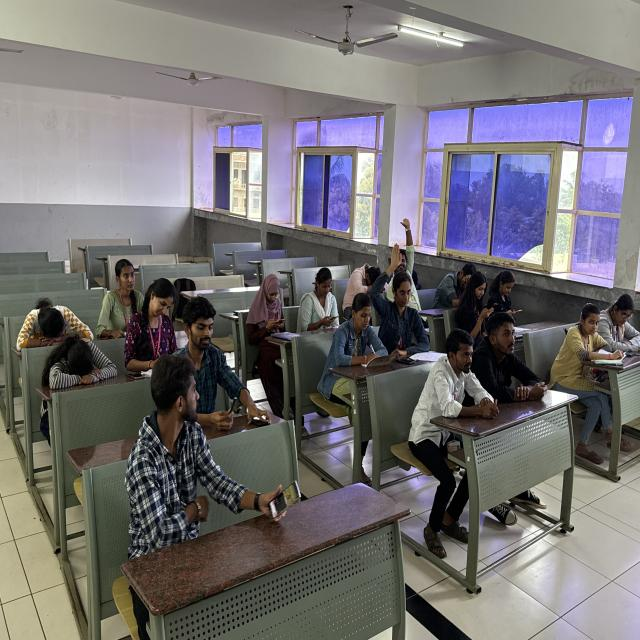Hand Rising: (380, 240, 433, 360), (390, 212, 424, 290)
Reading: (600, 291, 640, 355)
Sleeping: (15, 297, 98, 355), (48, 336, 119, 396), (341, 260, 390, 306)
Using Phone: (126, 352, 304, 541), (245, 269, 292, 362), (296, 263, 342, 337), (456, 266, 496, 338), (490, 264, 525, 322)
Writing: (331, 293, 391, 383), (126, 272, 182, 359)
